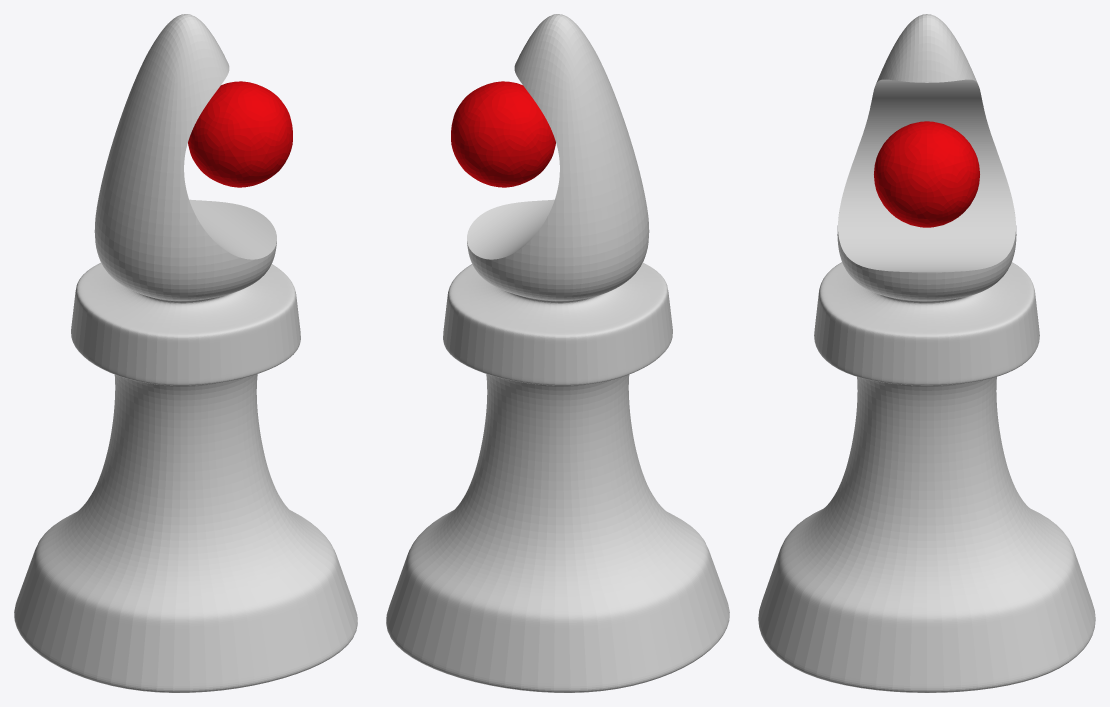
The model's file is Chess_Fers.fbx.
3 views of the same model, side by side, from view 1: azimuth 30°, elevation 25°; view 2: azimuth 150°, elevation 25°; view 3: azimuth 270°, elevation 25° (orthographic).
Visible parts, largest first — view 1: Cube; view 2: Cube; view 3: Cube.
Boxes of the visible parts, x1,y1,x2,y2 form: Cube: (14, 14, 357, 692); Cube: (386, 14, 729, 692); Cube: (758, 14, 1095, 692).
Bounding box in the file's own units: 87.95 × 175 × 87.95.
